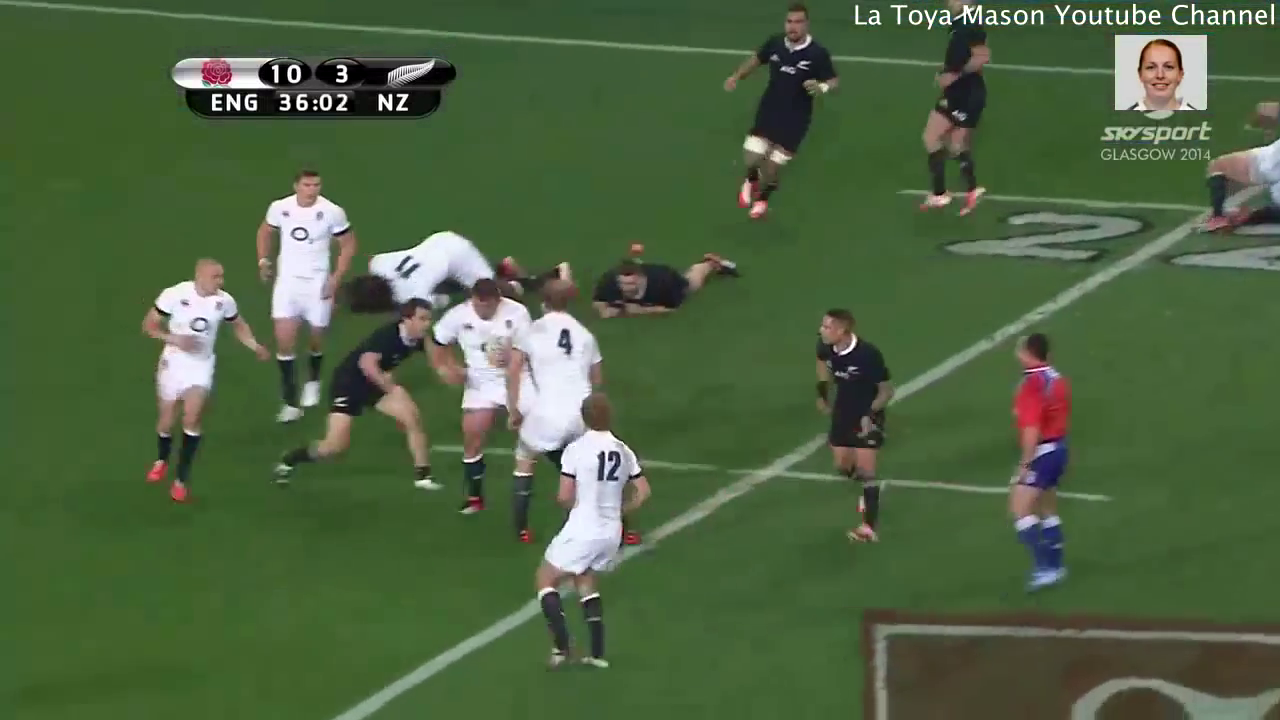player: (271, 295, 452, 500), (529, 391, 654, 676), (137, 255, 267, 513), (716, 1, 847, 228), (501, 284, 613, 549), (252, 164, 350, 424), (425, 274, 524, 531), (993, 328, 1082, 595), (802, 304, 895, 555), (906, 1, 998, 221), (591, 238, 747, 328), (341, 229, 505, 305)
